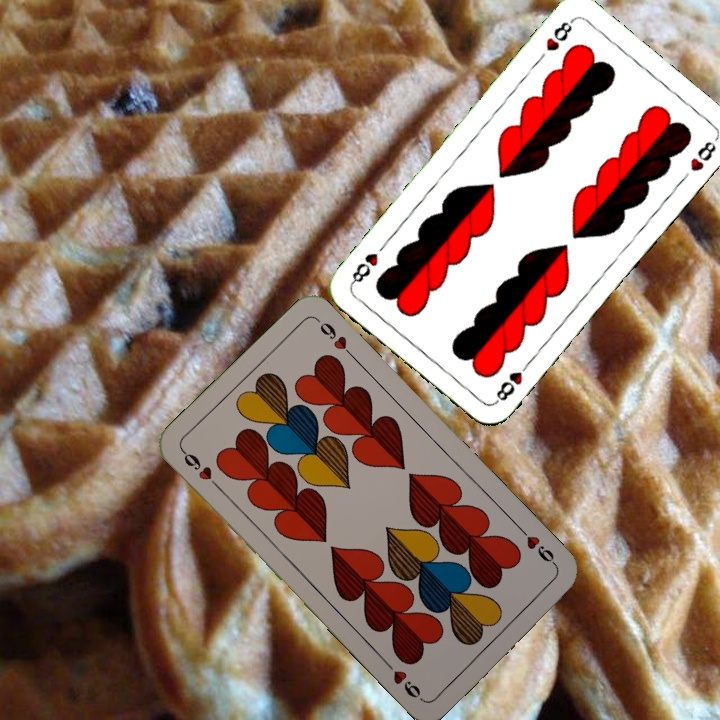H8: (490, 357, 533, 407), (541, 15, 576, 54)
H9: (515, 523, 561, 571), (177, 446, 223, 493)
